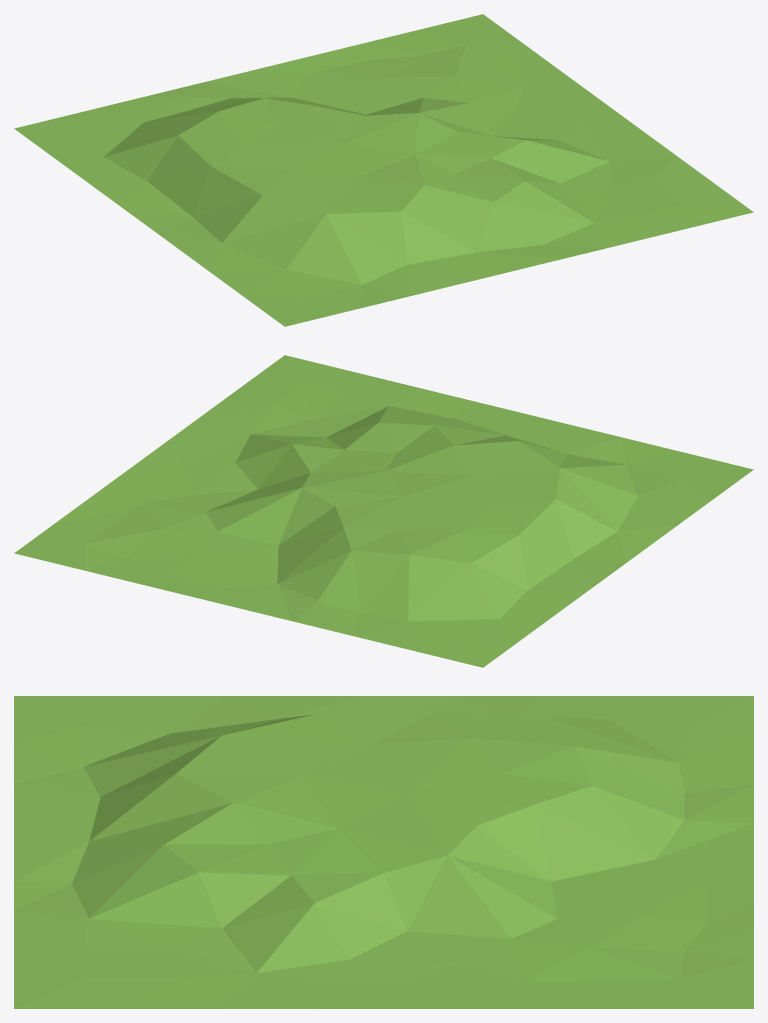
File: MT_Terrain_S_c_08_LOD.fbx
3 renders of one model, top to bottom at view 1: azimuth 30°, elevation 25°; view 2: azimuth 150°, elevation 25°; view 3: azimuth 270°, elevation 25°, orthographic. The views are drawn at different scales.
Parts seen in each view (by area): view 1: MT_Terrain_S_c_08_LOD0; view 2: MT_Terrain_S_c_08_LOD0; view 3: MT_Terrain_S_c_08_LOD0.
Part boxes in pixels (box(x1,y1,x2,y2)): MT_Terrain_S_c_08_LOD0: box(14, 14, 753, 326); MT_Terrain_S_c_08_LOD0: box(14, 355, 753, 667); MT_Terrain_S_c_08_LOD0: box(14, 696, 753, 1008).
Size of what is drawn, in the model's own units: 2500 by 167 by 2500.
